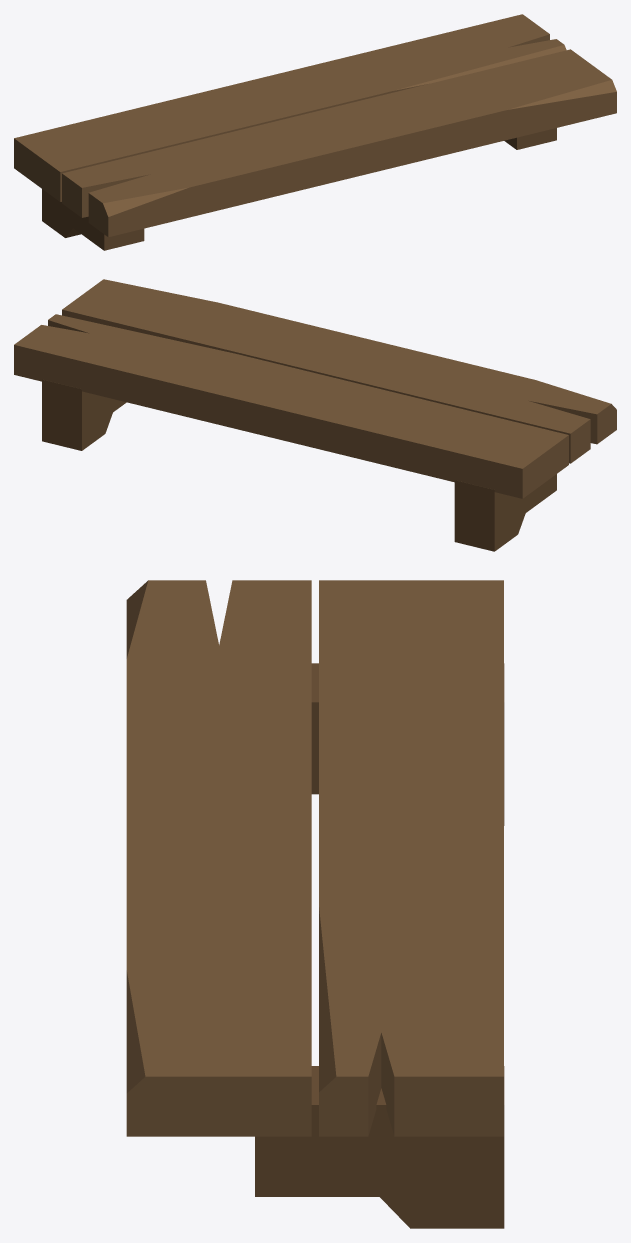
Rendered from Furniture_03.fbx.
The picture shows the model from 3 angles, top to bottom: view 1: azimuth 30°, elevation 25°; view 2: azimuth 150°, elevation 25°; view 3: azimuth 270°, elevation 25°; orthographic projection. The views are drawn at different scales.
Parts seen in each view (by area): view 1: Furniture_03; view 2: Furniture_03; view 3: Furniture_03.
Boxes of the visible parts, x1,y1,x2,y2 form: Furniture_03: (14, 14, 616, 250); Furniture_03: (14, 279, 616, 551); Furniture_03: (126, 580, 504, 1228).
Bounding box in the file's own units: 79.91 × 13.45 × 25.69.
